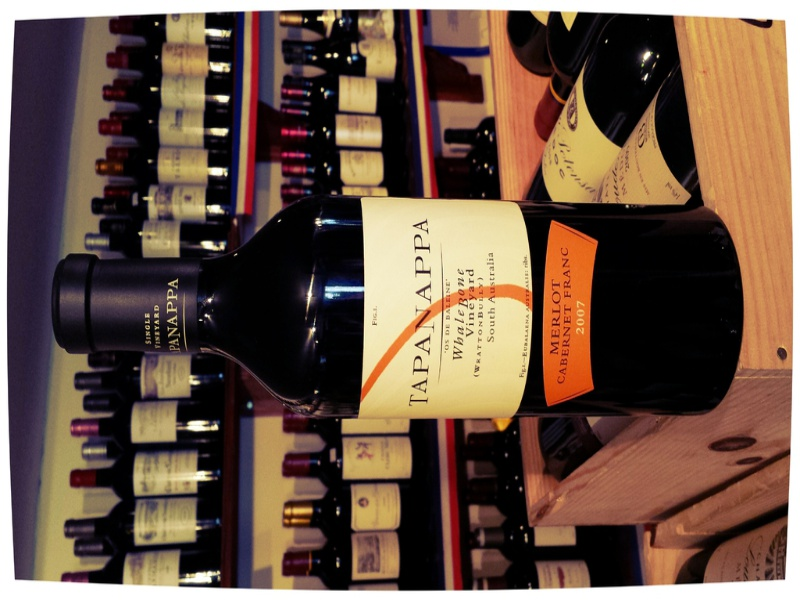wine: (63, 10, 747, 600), (51, 191, 748, 421)
